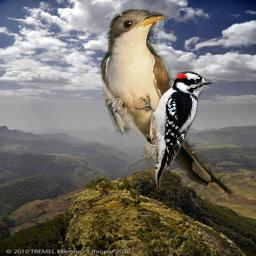Cuckoo: (100, 9, 236, 205)
Woodpecker: (135, 71, 212, 188)
